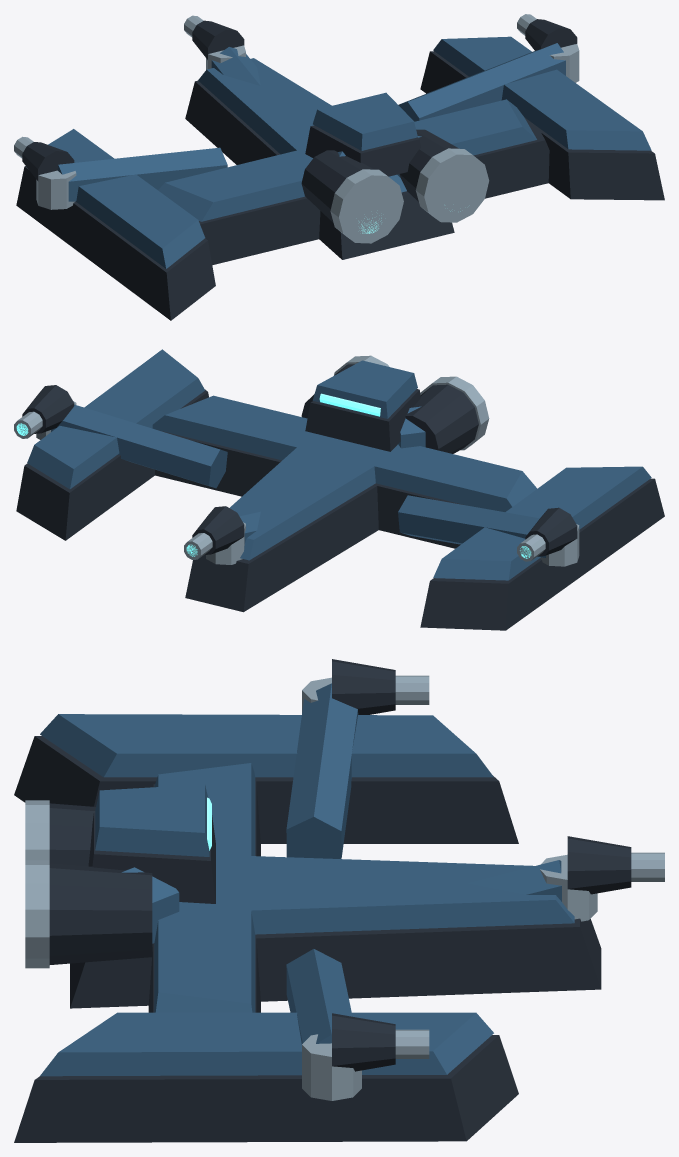
File: c4_miniHarpy.glb
The picture shows the model from 3 angles, top to bottom: view 1: azimuth 30°, elevation 25°; view 2: azimuth 150°, elevation 25°; view 3: azimuth 270°, elevation 25°; orthographic projection. The views are drawn at different scales.
Visible parts, largest first — view 1: miniHarpy / Armor, miniHarpy / Chassis, miniHarpy / Titanium; view 2: miniHarpy / Armor, miniHarpy / Chassis, miniHarpy / Titanium, miniHarpy / Energy; view 3: miniHarpy / Armor, miniHarpy / Chassis, miniHarpy / Titanium.
Boxes of the visible parts, x1,y1,x2,y2 form: miniHarpy / Armor: (48, 36, 651, 268); miniHarpy / Chassis: (16, 19, 664, 320); miniHarpy / Titanium: (14, 14, 579, 243); miniHarpy / Armor: (27, 349, 651, 580); miniHarpy / Chassis: (16, 364, 664, 630); miniHarpy / Titanium: (14, 355, 579, 566); miniHarpy / Energy: (16, 393, 531, 558); miniHarpy / Armor: (40, 683, 574, 1076); miniHarpy / Chassis: (14, 659, 631, 1142); miniHarpy / Titanium: (25, 675, 664, 1100).
Size of the model in its own units: 2.4 by 0.473 by 1.74.
